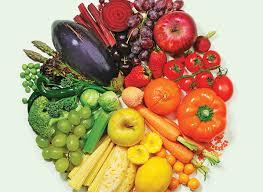Organic: (4, 3, 263, 192)
